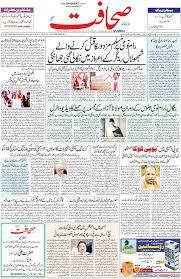Printing industry: (0, 5, 181, 279)
